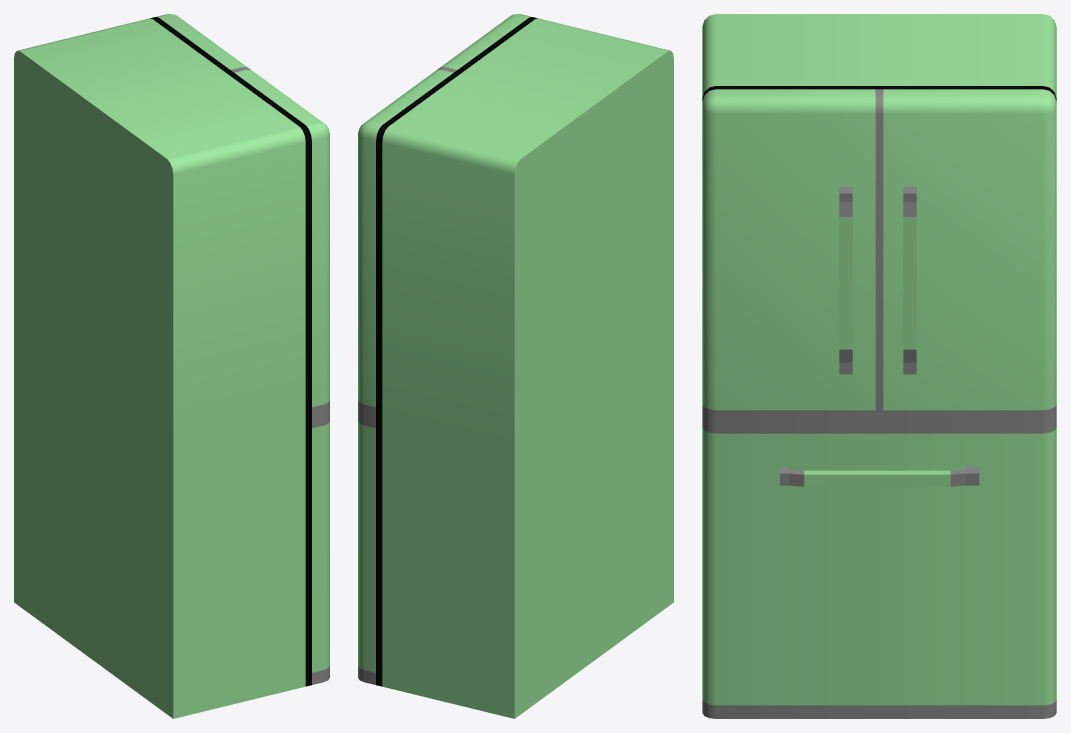
File: fridge.fbx
3 renders of one model, left to right at view 1: azimuth 30°, elevation 25°; view 2: azimuth 150°, elevation 25°; view 3: azimuth 270°, elevation 25°, orthographic. The views are drawn at different scales.
Visible parts, largest first — view 1: Cube; view 2: Cube; view 3: Cube.
Boxes of the visible parts, x1,y1,x2,y2 form: Cube: (14, 14, 329, 718); Cube: (358, 14, 673, 718); Cube: (702, 14, 1056, 718).
Bounding box in the file's own units: 128 × 385 × 200.
